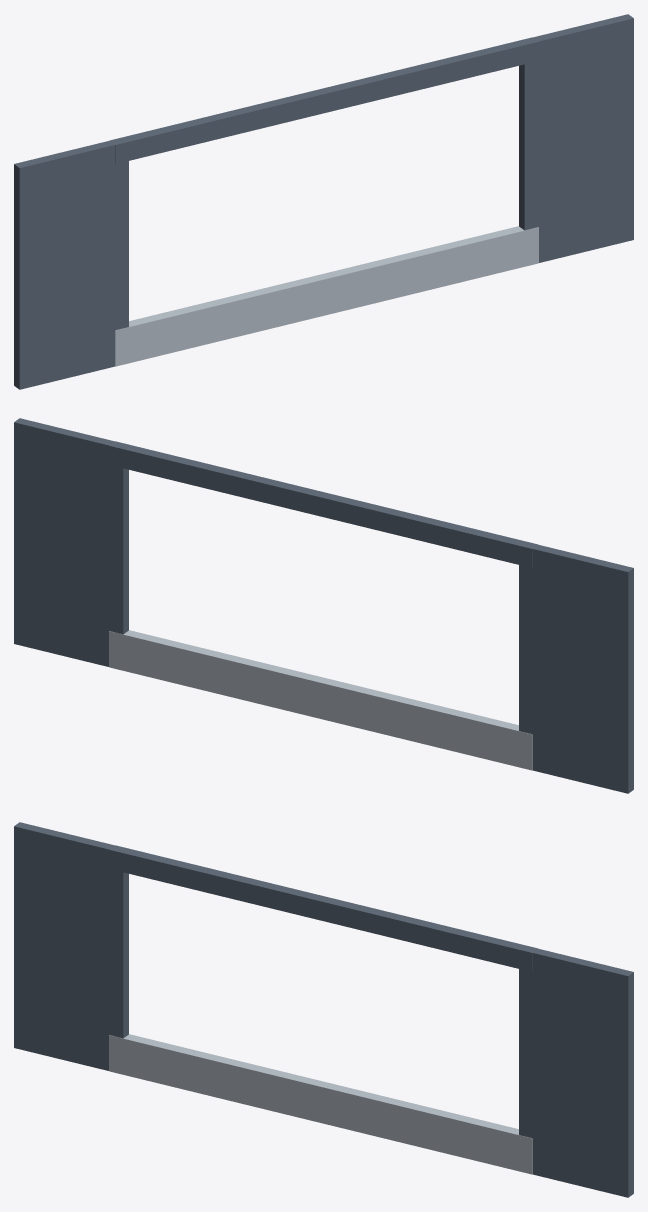
Rendered from 03_PS_Studio_RearWallPanorama.glb.
3 views of the same model, one above another, from view 1: azimuth 30°, elevation 25°; view 2: azimuth 150°, elevation 25°; view 3: azimuth 330°, elevation 25° (orthographic).
Parts seen in each view (by area): view 1: PS_Studio_RearWallPanorama; view 2: PS_Studio_RearWallPanorama; view 3: PS_Studio_RearWallPanorama.
Boxes of the visible parts, bbox=[...] form: PS_Studio_RearWallPanorama: bbox=[14, 14, 633, 389]; PS_Studio_RearWallPanorama: bbox=[14, 418, 633, 793]; PS_Studio_RearWallPanorama: bbox=[14, 822, 633, 1197].
Size of the model in its own units: 17.4 by 6 by 0.3.
